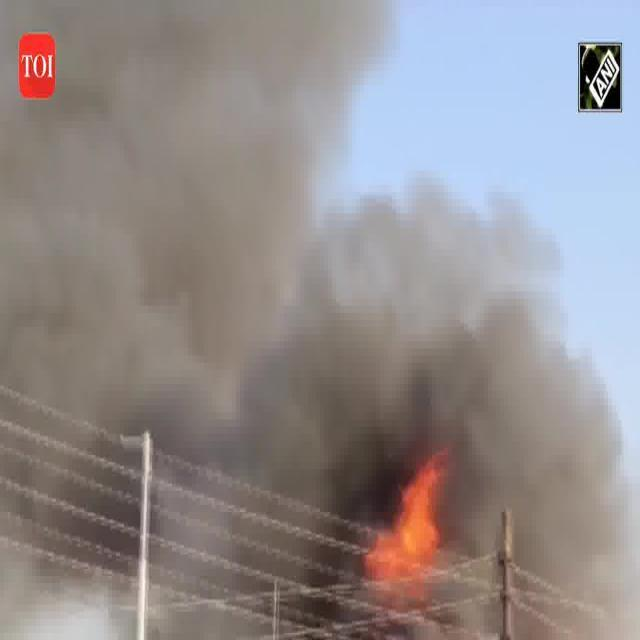Fire: (360, 454, 450, 594)
Smoke: (1, 2, 290, 393)
